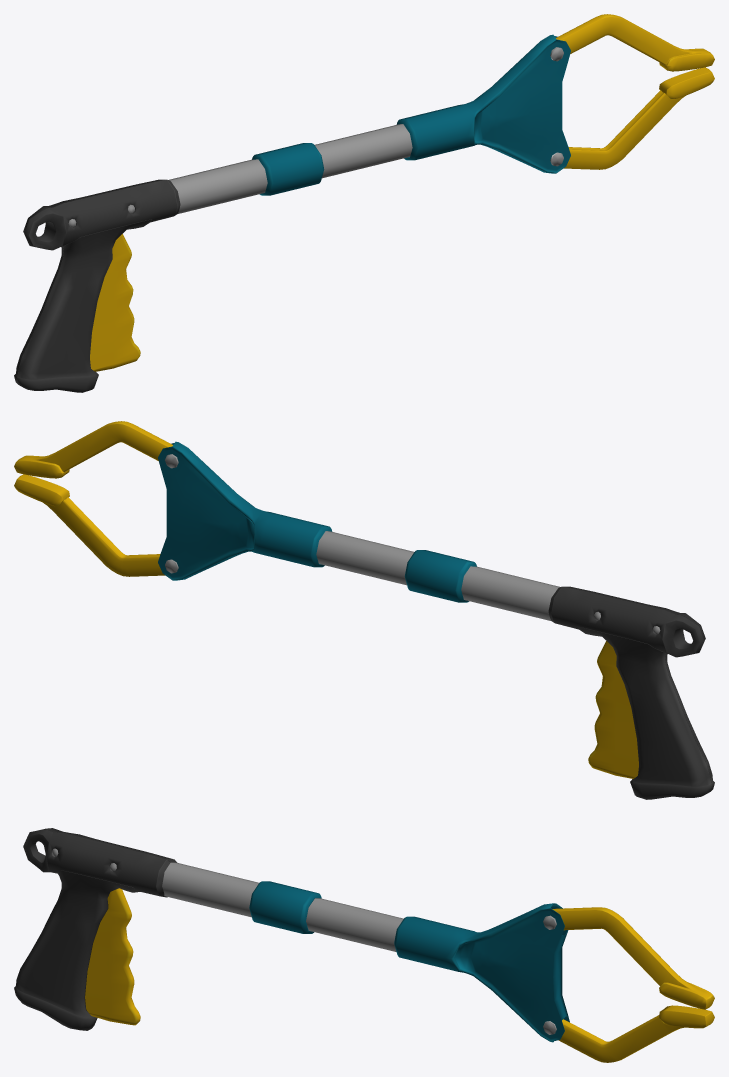
Rendered from Herram_Pinz_Anima_Cojer_01.fbx.
The picture shows the model from 3 angles, top to bottom: view 1: azimuth 30°, elevation 25°; view 2: azimuth 150°, elevation 25°; view 3: azimuth 330°, elevation 25°; orthographic projection.
Parts seen in each view (by area): view 1: Geo_Mango_Pinza, Geo_Tubo_Pinza_01, Geo_Boton_Pinza, Geo_Tenaz_Pinz_Inf, Geo_Tenaz_Pinz_Sup; view 2: Geo_Mango_Pinza, Geo_Tubo_Pinza_01, Geo_Boton_Pinza, Geo_Tenaz_Pinz_Inf, Geo_Tenaz_Pinz_Sup; view 3: Geo_Mango_Pinza, Geo_Tubo_Pinza_01, Geo_Boton_Pinza, Geo_Tenaz_Pinz_Sup, Geo_Tenaz_Pinz_Inf.
Boxes of the visible parts, x1=… form: Geo_Mango_Pinza: x1=14, y1=143, x2=324, y2=392; Geo_Tubo_Pinza_01: x1=315, y1=34, x2=570, y2=178; Geo_Boton_Pinza: x1=90, y1=234, x2=140, y2=371; Geo_Tenaz_Pinz_Inf: x1=563, y1=67, x2=714, y2=169; Geo_Tenaz_Pinz_Sup: x1=556, y1=14, x2=714, y2=71; Geo_Mango_Pinza: x1=404, y1=550, x2=714, y2=799; Geo_Tubo_Pinza_01: x1=158, y1=441, x2=413, y2=585; Geo_Boton_Pinza: x1=588, y1=641, x2=638, y2=778; Geo_Tenaz_Pinz_Inf: x1=14, y1=474, x2=165, y2=576; Geo_Tenaz_Pinz_Sup: x1=14, y1=421, x2=172, y2=478; Geo_Mango_Pinza: x1=14, y1=828, x2=321, y2=1030; Geo_Tubo_Pinza_01: x1=306, y1=898, x2=569, y2=1042; Geo_Boton_Pinza: x1=85, y1=888, x2=140, y2=1025; Geo_Tenaz_Pinz_Sup: x1=552, y1=907, x2=714, y2=1009; Geo_Tenaz_Pinz_Inf: x1=558, y1=1005, x2=714, y2=1062.
Bounding box in the file's own units: 6.27 × 2.12 × 0.3538.
